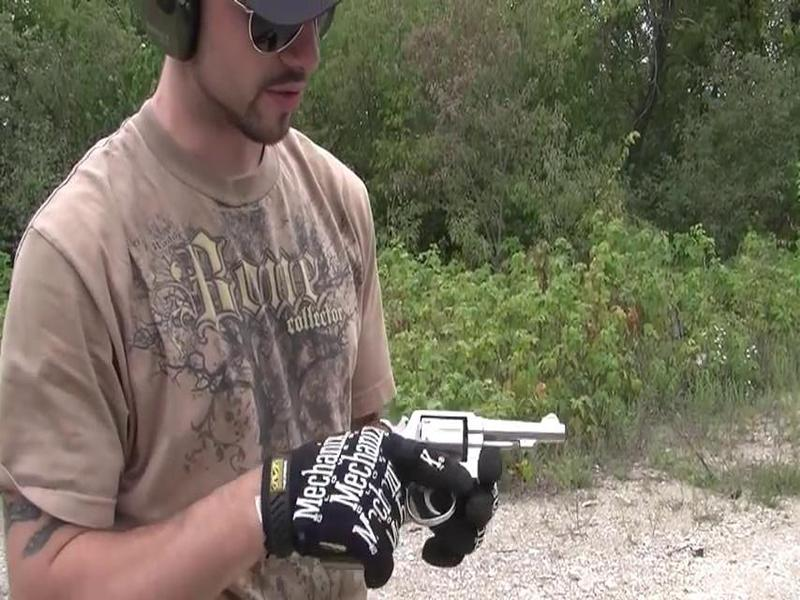Revolver: (304, 375, 566, 569)
